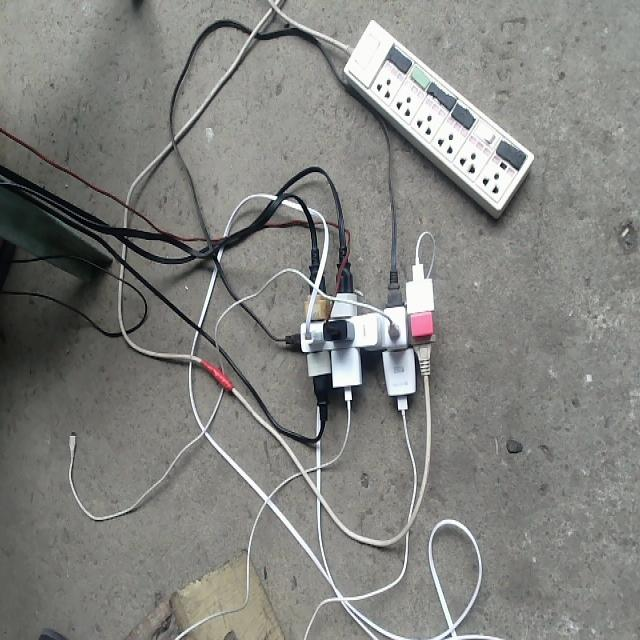-: (277, 251, 451, 413)
